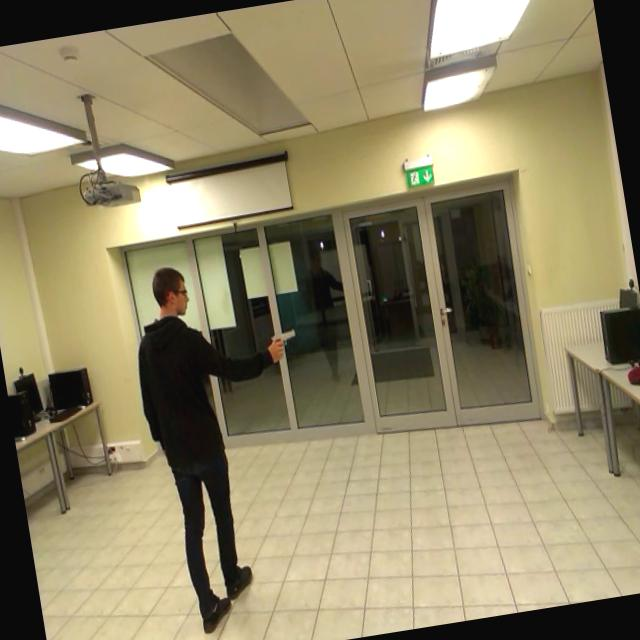handgun: (265, 321, 310, 372)
